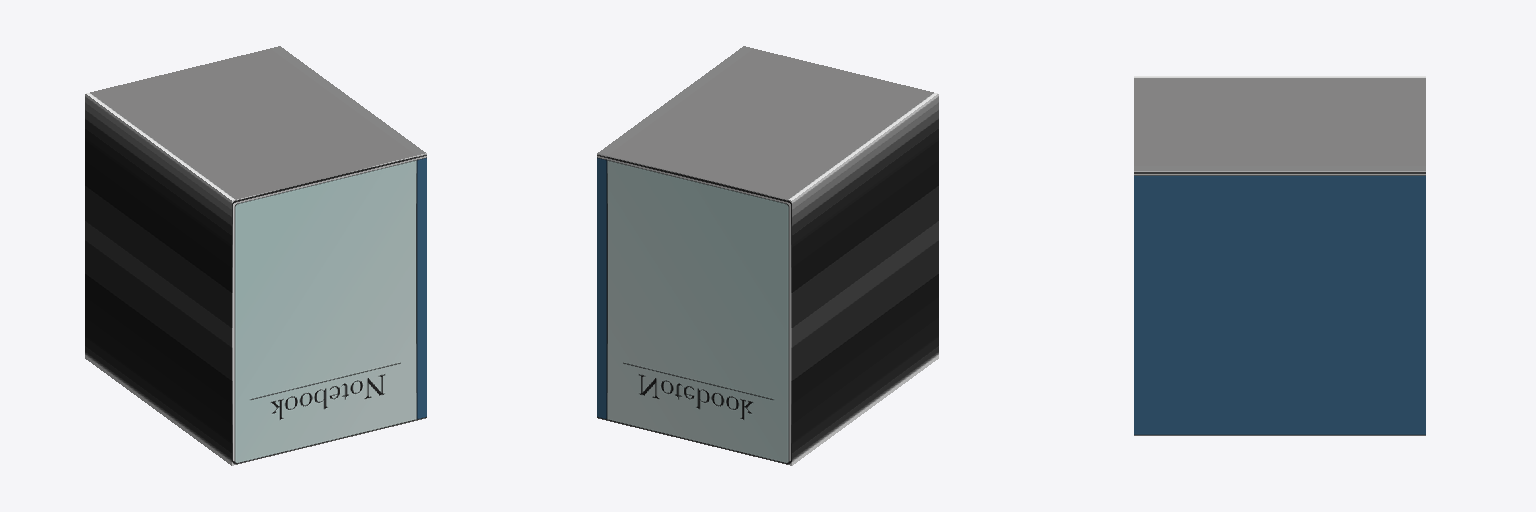
3 views of the same model, side by side, from view 1: azimuth 30°, elevation 25°; view 2: azimuth 150°, elevation 25°; view 3: azimuth 270°, elevation 25° (orthographic).
Bounding box in the file's own units: 154 × 200 × 200.
1 materials, 1 textured.